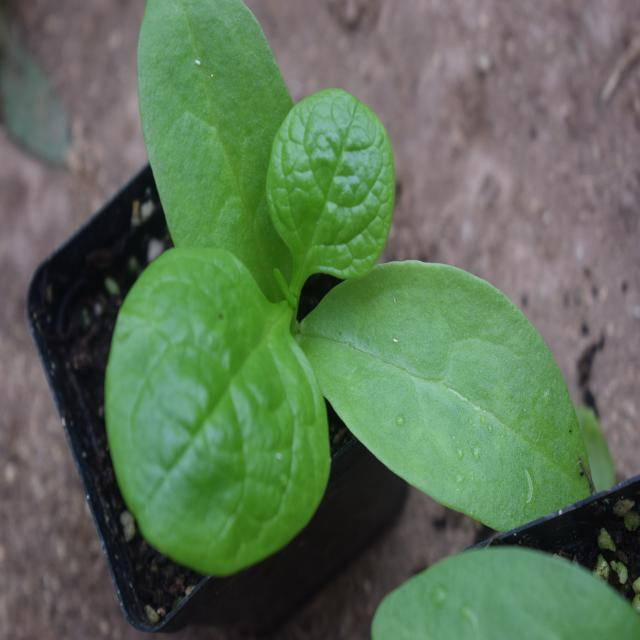Ceylon spinach: (129, 0, 581, 569)
